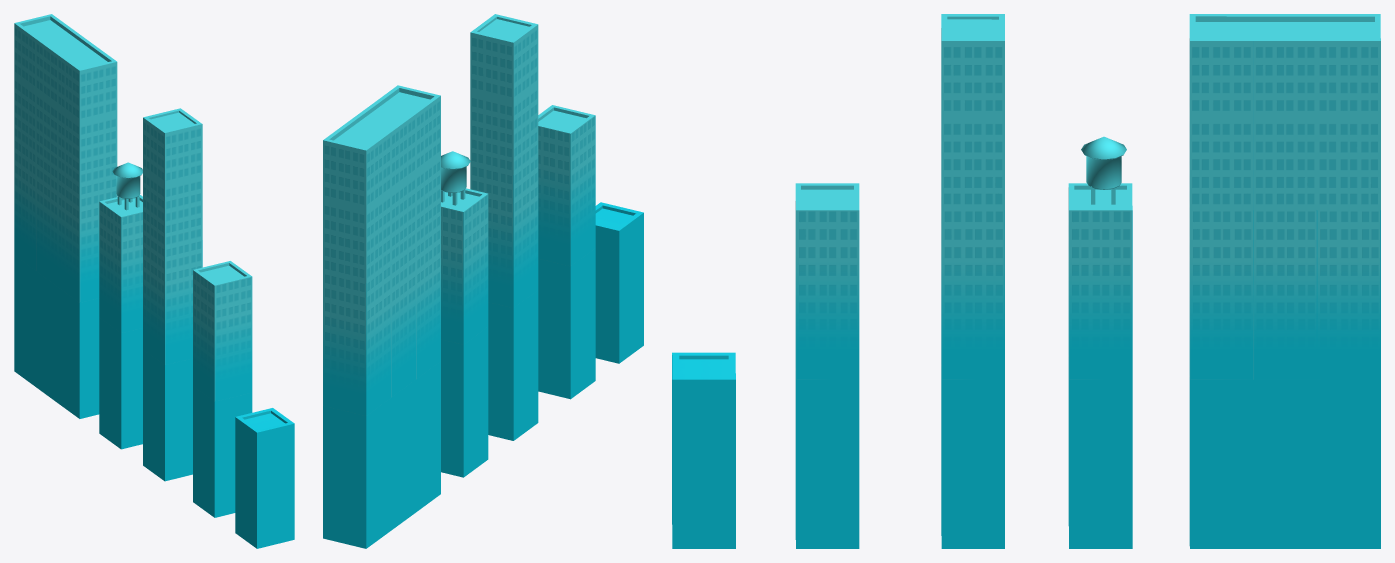
Rendered from binalar.fbx.
The picture shows the model from 3 angles, left to right: view 1: azimuth 30°, elevation 25°; view 2: azimuth 150°, elevation 25°; view 3: azimuth 270°, elevation 25°; orthographic projection. The views are drawn at different scales.
Visible parts, largest first — view 1: bina5, bina3, bina2, bina4, bina1; view 2: bina5, bina3, bina2, bina4, bina1; view 3: bina5, bina3, bina4, bina2, bina1.
Boxes of the visible parts, x1=… form: bina5: x1=14, y1=14, x2=117, y2=418; bina3: x1=143, y1=108, x2=202, y2=481; bina2: x1=193, y1=261, x2=252, y2=517; bina4: x1=99, y1=162, x2=142, y2=449; bina1: x1=235, y1=408, x2=294, y2=548; bina5: x1=323, y1=85, x2=440, y2=548; bina3: x1=470, y1=14, x2=538, y2=440; bina2: x1=538, y1=105, x2=595, y2=399; bina4: x1=441, y1=151, x2=488, y2=477; bina1: x1=595, y1=202, x2=643, y2=363; bina5: x1=1189, y1=14, x2=1380, y2=548; bina3: x1=941, y1=14, x2=1004, y2=548; bina4: x1=1068, y1=136, x2=1132, y2=548; bina2: x1=795, y1=183, x2=859, y2=548; bina1: x1=672, y1=352, x2=735, y2=548.
Bounding box in the file's own units: 2.01 × 22.33 × 17.67.
